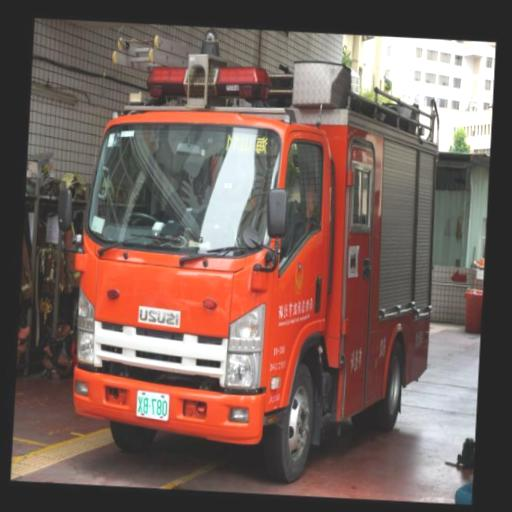fire truck: (56, 37, 465, 486)
